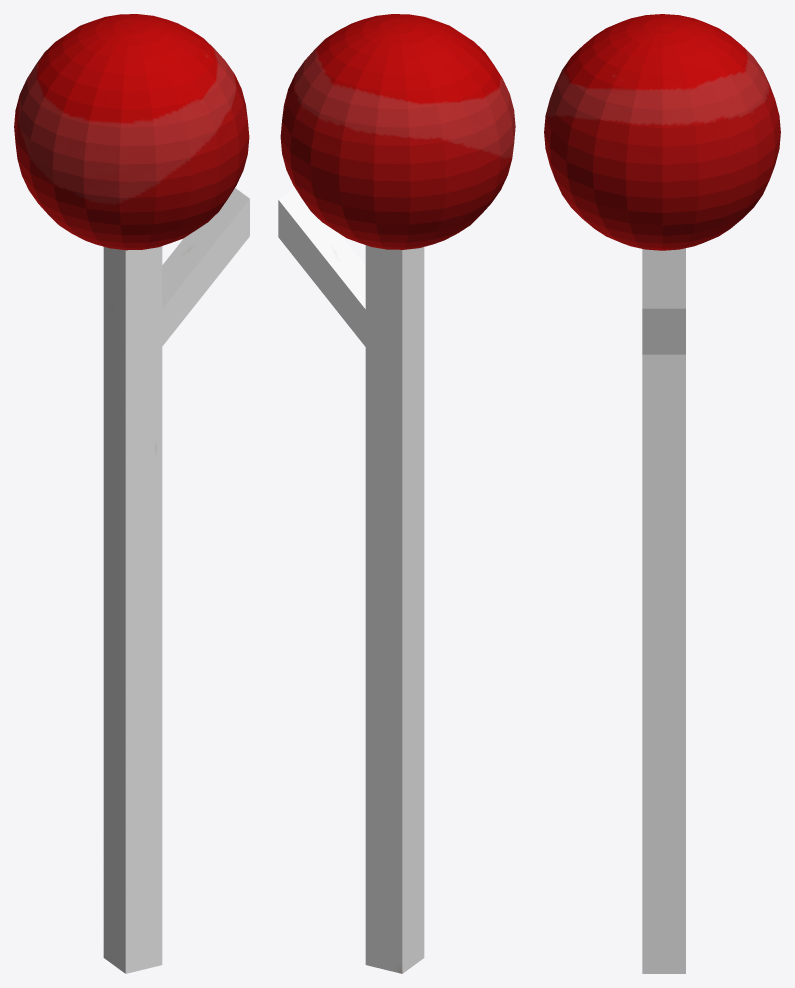
Rendered from tree.fbx.
3 renders of one model, left to right at view 1: azimuth 30°, elevation 25°; view 2: azimuth 150°, elevation 25°; view 3: azimuth 270°, elevation 25°, orthographic.
Parts seen in each view (by area): view 1: headusOBJexport; view 2: headusOBJexport; view 3: headusOBJexport.
Boxes of the visible parts, x1,y1,x2,y2 form: headusOBJexport: [14, 14, 249, 973]; headusOBJexport: [278, 14, 515, 973]; headusOBJexport: [544, 14, 780, 973].
Size of the model in its own units: 3.26 by 13.9 by 3.18.
